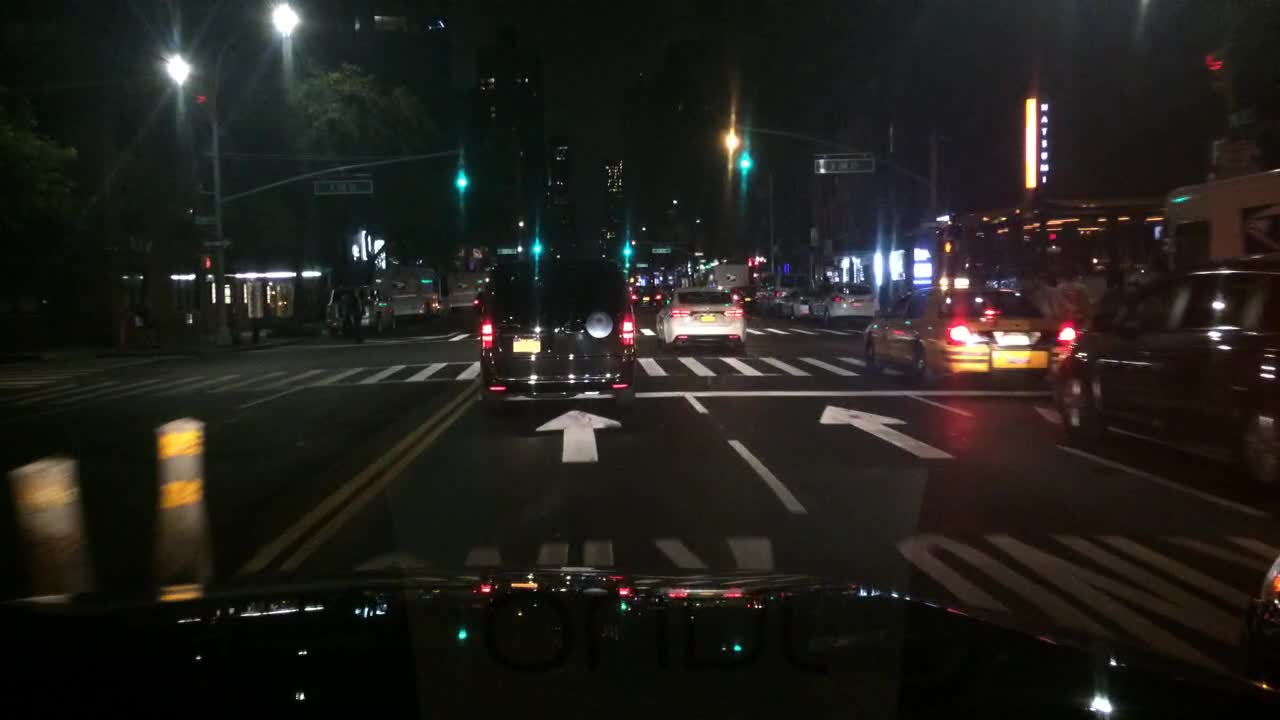car: (1042, 247, 1278, 491), (469, 251, 641, 418), (858, 283, 1077, 390), (652, 285, 747, 352), (1241, 551, 1279, 675), (323, 283, 396, 338), (379, 263, 443, 319), (805, 282, 878, 330), (750, 274, 816, 321), (445, 268, 485, 314), (775, 284, 817, 322), (703, 261, 750, 289), (629, 283, 665, 315), (122, 298, 154, 327), (727, 283, 755, 312), (177, 301, 192, 326)
person: (328, 278, 365, 335)
traffic light: (1201, 48, 1228, 101), (191, 87, 208, 130), (736, 146, 752, 173), (455, 159, 468, 191), (197, 253, 216, 272), (942, 238, 957, 254), (745, 255, 757, 268), (531, 240, 541, 255), (623, 240, 631, 256)
traffic sign: (811, 157, 875, 175), (310, 179, 373, 196), (200, 236, 232, 249), (190, 213, 220, 225), (495, 246, 518, 254), (650, 246, 672, 253), (633, 262, 648, 267), (693, 251, 704, 256)
